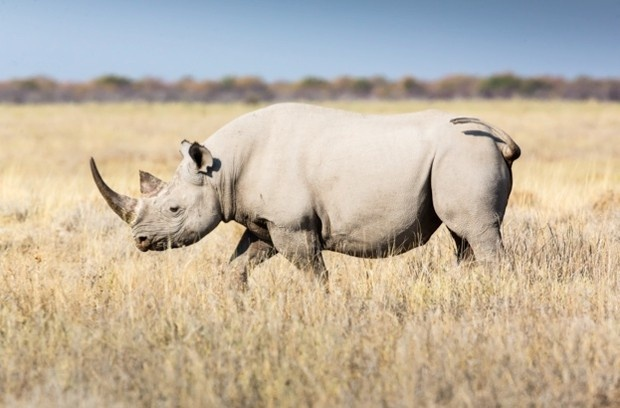rhino: (87, 102, 520, 303)
